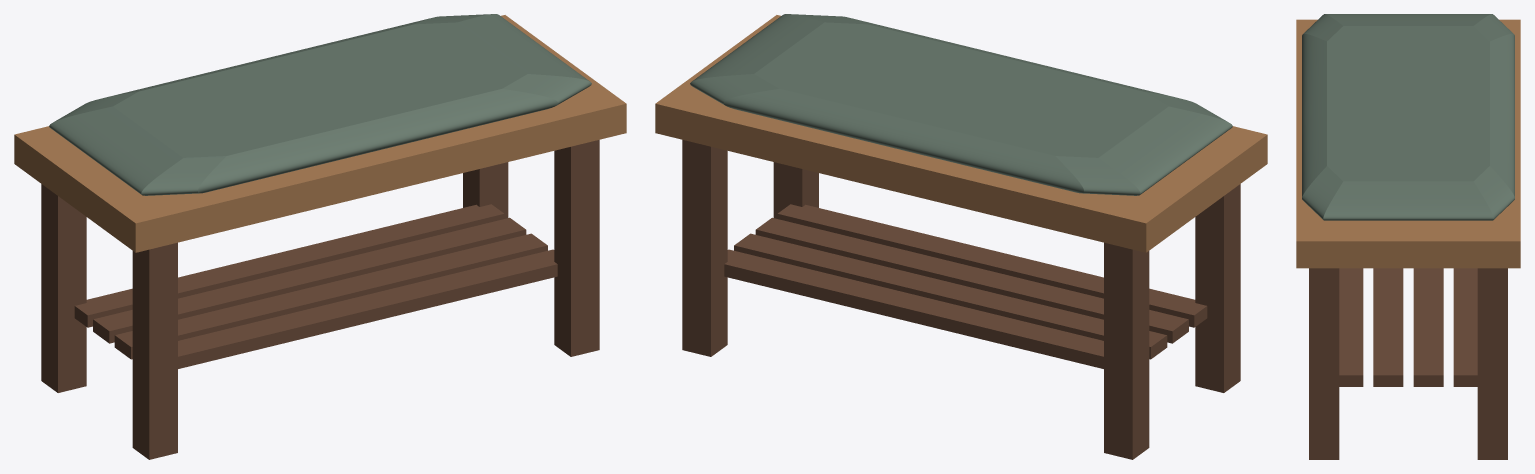
File: shoe_bench.glb
3 renders of one model, left to right at view 1: azimuth 30°, elevation 25°; view 2: azimuth 150°, elevation 25°; view 3: azimuth 270°, elevation 25°, orthographic. The views are drawn at different scales.
Parts seen in each view (by area): view 1: Seat cushion, Bench seat, Shoe shelf slat, Leg, Leg.002, Leg.001, Shoe shelf slat.002, Shoe shelf slat.001, Shoe shelf slat.003, Leg.003; view 2: Seat cushion, Bench seat, Shoe shelf slat.003, Leg.001, Leg.003, Leg, Shoe shelf slat.001, Shoe shelf slat.002, Shoe shelf slat, Leg.002; view 3: Seat cushion, Bench seat, Leg.002, Leg.003, Shoe shelf slat.001, Shoe shelf slat.002, Shoe shelf slat, Shoe shelf slat.003.
Part boxes in pixels (bbox=[...]): Seat cushion: bbox=[49, 14, 591, 195]; Bench seat: bbox=[14, 15, 626, 252]; Shoe shelf slat: bbox=[178, 249, 557, 368]; Leg: bbox=[132, 242, 177, 459]; Leg.002: bbox=[554, 140, 599, 356]; Leg.001: bbox=[41, 184, 86, 392]; Shoe shelf slat.002: bbox=[93, 217, 526, 343]; Shoe shelf slat.001: bbox=[114, 233, 547, 359]; Shoe shelf slat.003: bbox=[74, 204, 504, 327]; Leg.003: bbox=[463, 162, 508, 218]; Seat cushion: bbox=[690, 14, 1232, 195]; Bench seat: bbox=[655, 15, 1267, 252]; Shoe shelf slat.003: bbox=[724, 249, 1103, 368]; Leg.001: bbox=[1104, 242, 1149, 459]; Leg.003: bbox=[682, 140, 727, 356]; Leg: bbox=[1195, 184, 1240, 392]; Shoe shelf slat.001: bbox=[755, 217, 1188, 343]; Shoe shelf slat.002: bbox=[734, 233, 1167, 359]; Shoe shelf slat: bbox=[777, 204, 1207, 327]; Leg.002: bbox=[773, 162, 818, 218]; Seat cushion: bbox=[1302, 14, 1514, 220]; Bench seat: bbox=[1296, 19, 1520, 268]; Leg.002: bbox=[1309, 268, 1339, 459]; Leg.003: bbox=[1477, 268, 1507, 459]; Shoe shelf slat.001: bbox=[1373, 268, 1403, 386]; Shoe shelf slat.002: bbox=[1413, 268, 1443, 386]; Shoe shelf slat: bbox=[1339, 268, 1363, 386]; Shoe shelf slat.003: bbox=[1453, 268, 1477, 386].
Bounding box in the file's own units: 0.994 × 0.533 × 0.426.
